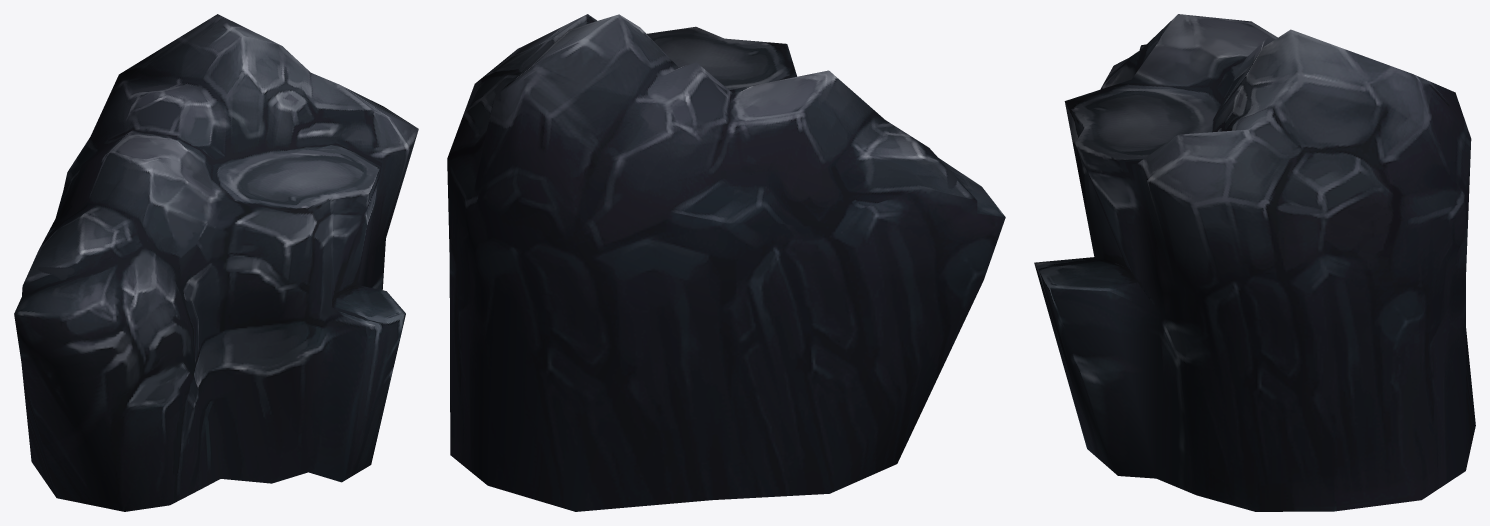
The model's file is Mine_shanti03.FBX.
3 renders of one model, left to right at view 1: azimuth 30°, elevation 25°; view 2: azimuth 150°, elevation 25°; view 3: azimuth 270°, elevation 25°, orthographic. The views are drawn at different scales.
Visible parts, largest first — view 1: 对象106; view 2: 对象106; view 3: 对象106.
Boxes of the visible parts, left/top/right/bottom form: 对象106: left=14, top=14, right=418, bottom=511; 对象106: left=447, top=14, right=1005, bottom=511; 对象106: left=1034, top=14, right=1475, bottom=511.
Size of the model in its own units: 418 by 357 by 340.
